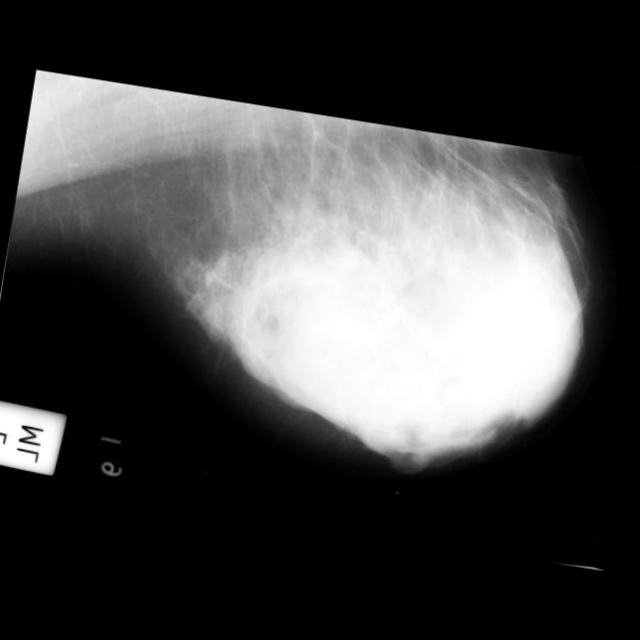ARCH: (200, 295, 288, 384)
